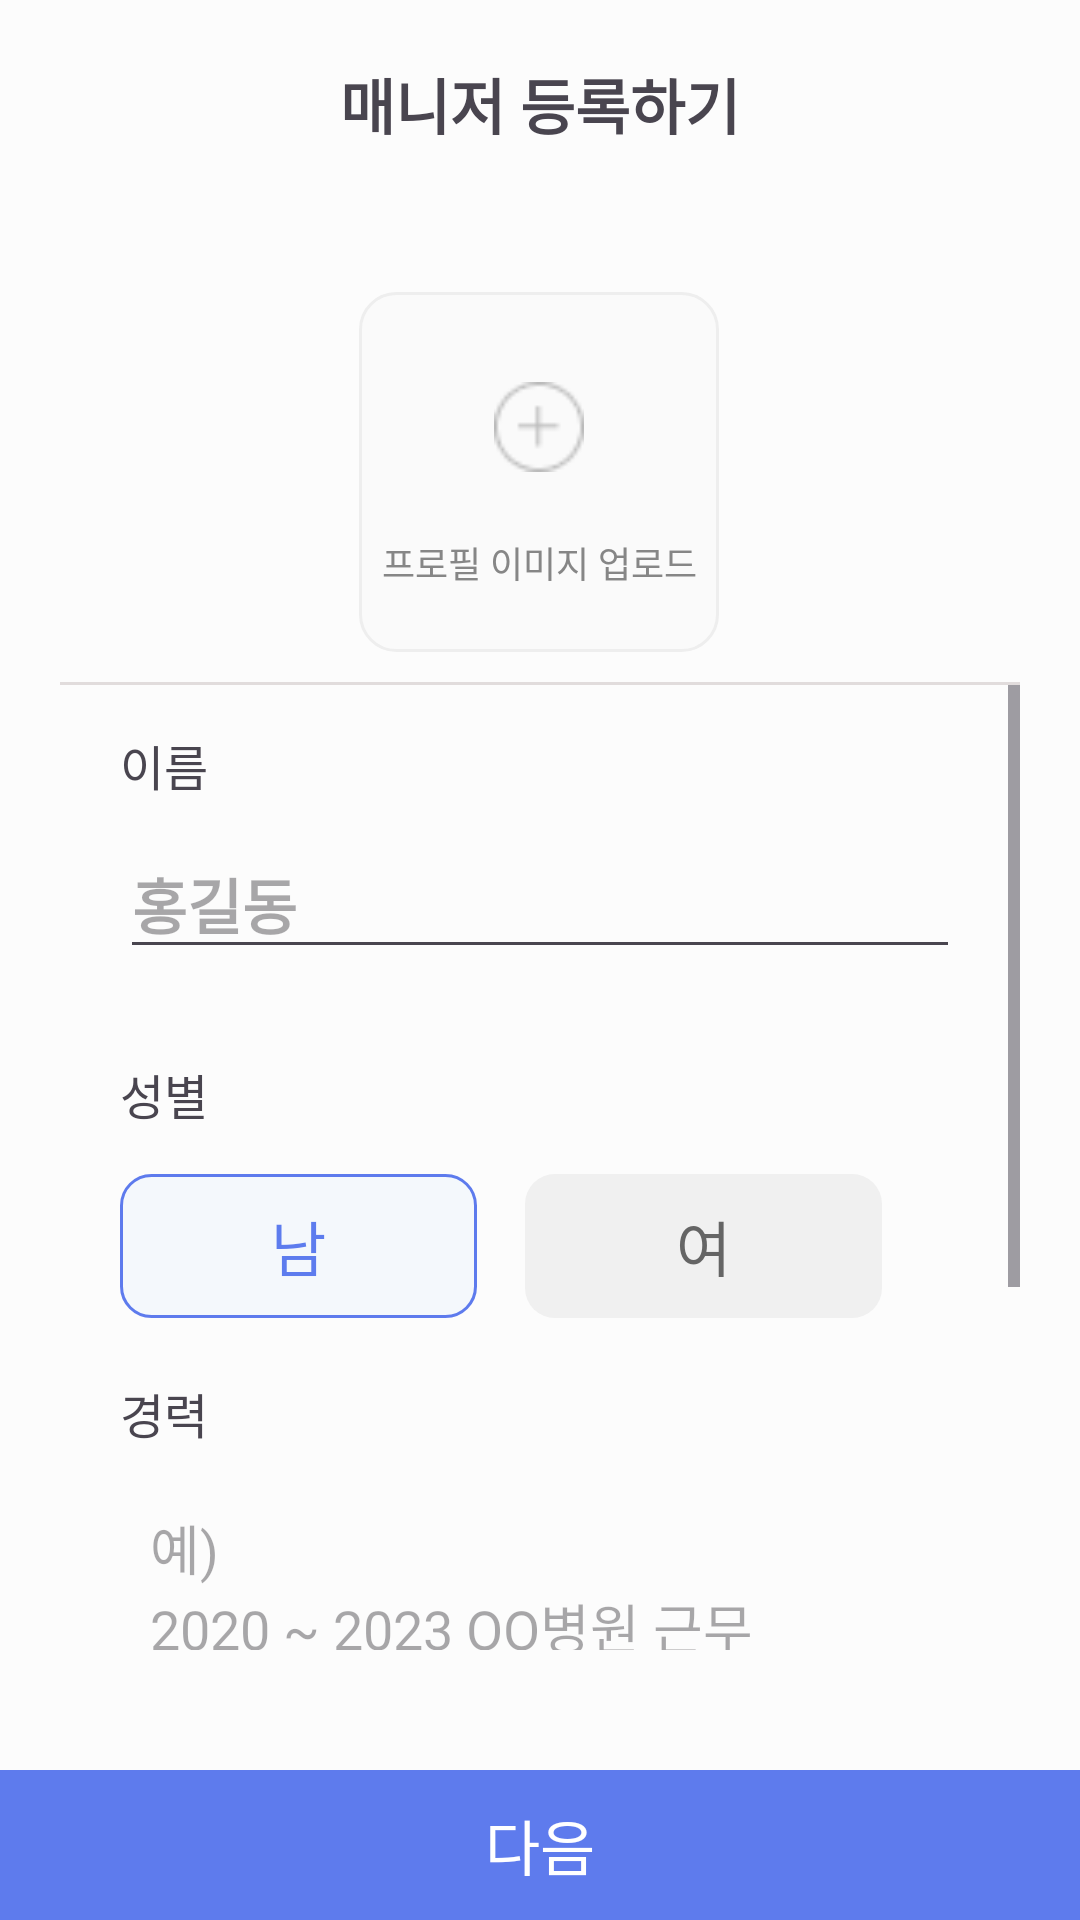

Icons on this 1080px×1920px Android screen, each with the point to tap as (x=x, y=y):
add: (x=539, y=427)
